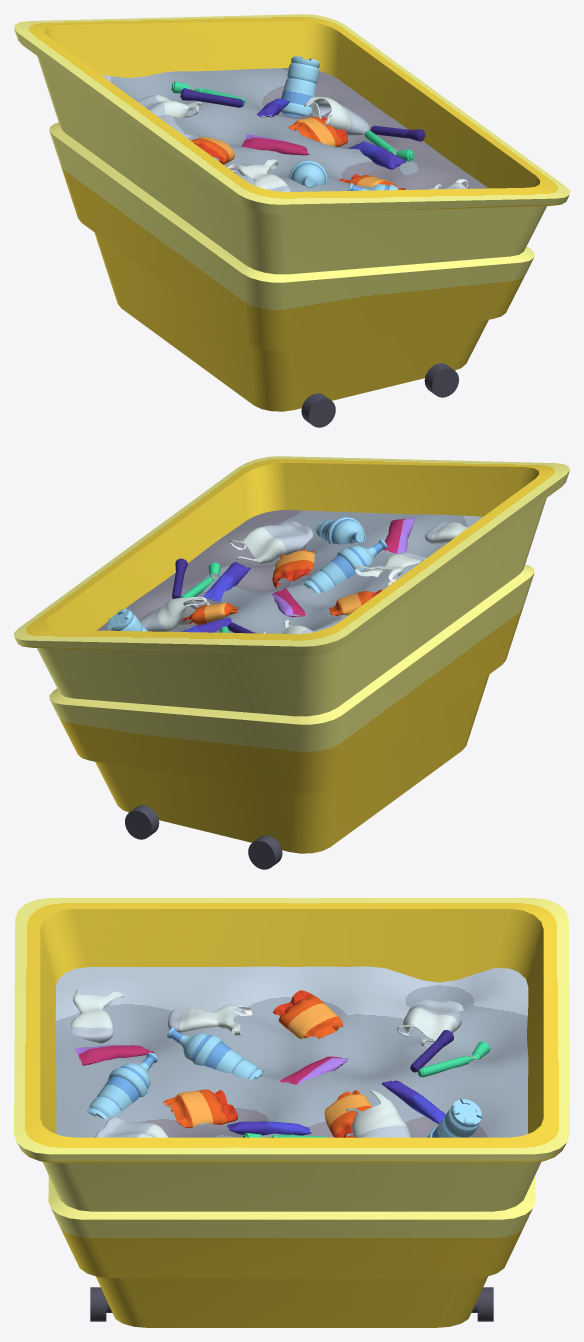
Rendered from separador_Am.fbx.
3 renders of one model, top to bottom at view 1: azimuth 30°, elevation 25°; view 2: azimuth 150°, elevation 25°; view 3: azimuth 270°, elevation 25°, orthographic. The views are drawn at different scales.
Parts seen in each view (by area): view 1: separador_Am; view 2: separador_Am; view 3: separador_Am.
Boxes of the visible parts, <box> form: separador_Am: <box>14,14,569,427</box>; separador_Am: <box>14,456,569,869</box>; separador_Am: <box>14,898,569,1327</box>.
Size of the model in its own units: 370 by 293 by 492.
